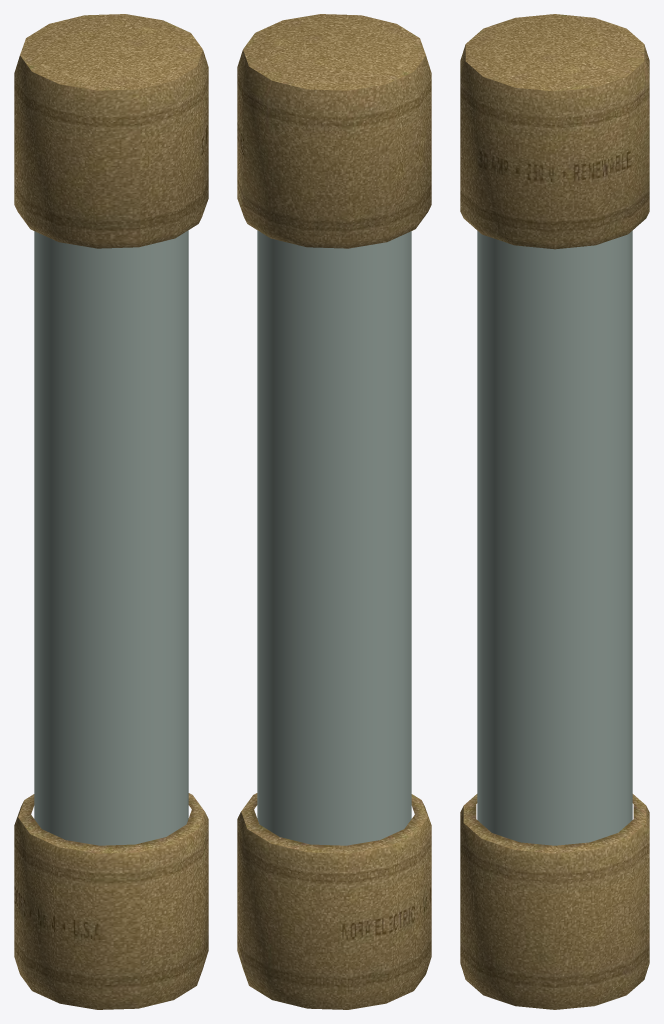
Rendered from fuse.glb.
The picture shows the model from 3 angles, left to right: view 1: azimuth 30°, elevation 25°; view 2: azimuth 150°, elevation 25°; view 3: azimuth 270°, elevation 25°; orthographic projection.
Parts seen in each view (by area): view 1: glass, fuse_body; view 2: glass, fuse_body; view 3: glass, fuse_body.
Boxes of the visible parts, left/top/right/bottom form: glass: left=34, top=230, right=188, bottom=845; fuse_body: left=14, top=14, right=208, bottom=1009; glass: left=257, top=230, right=411, bottom=845; fuse_body: left=237, top=14, right=431, bottom=1009; glass: left=477, top=231, right=632, bottom=845; fuse_body: left=460, top=14, right=649, bottom=1009.
Bounding box in the file's own units: 0.021 × 0.111 × 0.0205.
Materials: 2 (1 with a texture image).
